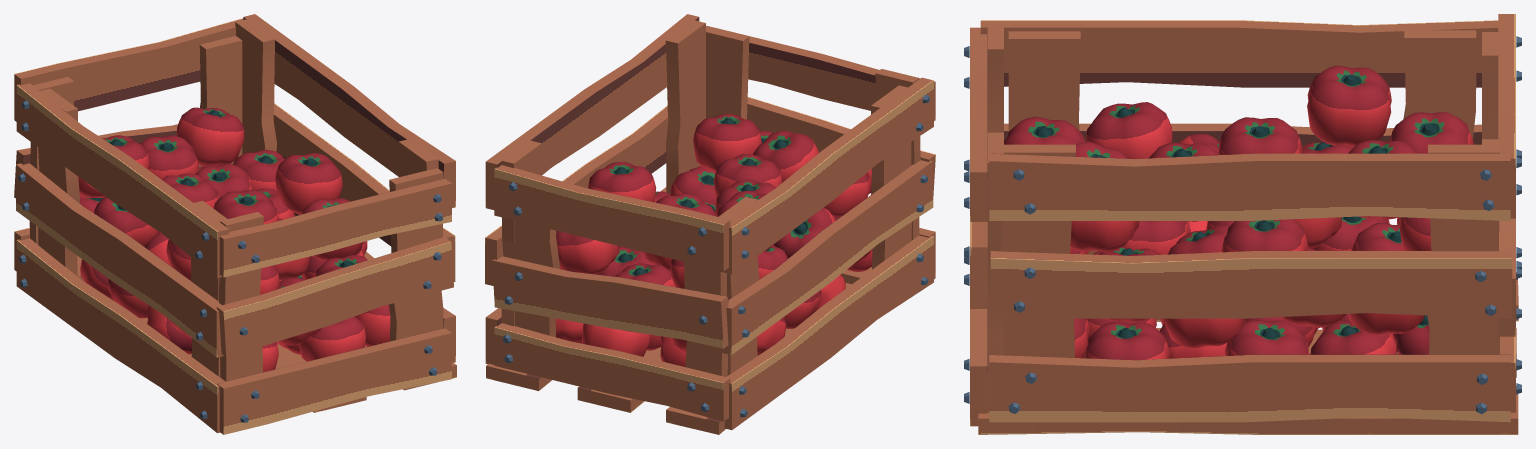
The model's file is Cajon_Tomate.fbx.
3 views of the same model, side by side, from view 1: azimuth 30°, elevation 25°; view 2: azimuth 150°, elevation 25°; view 3: azimuth 270°, elevation 25° (orthographic). The views are drawn at different scales.
Parts seen in each view (by area): view 1: Cajon_Tomate; view 2: Cajon_Tomate; view 3: Cajon_Tomate.
Part boxes in pixels (x1,y1,x2,y2): Cajon_Tomate: (14, 14, 456, 434); Cajon_Tomate: (485, 14, 935, 434); Cajon_Tomate: (964, 14, 1521, 434).
Bounding box in the file's own units: 80.53 × 65.51 × 119.
